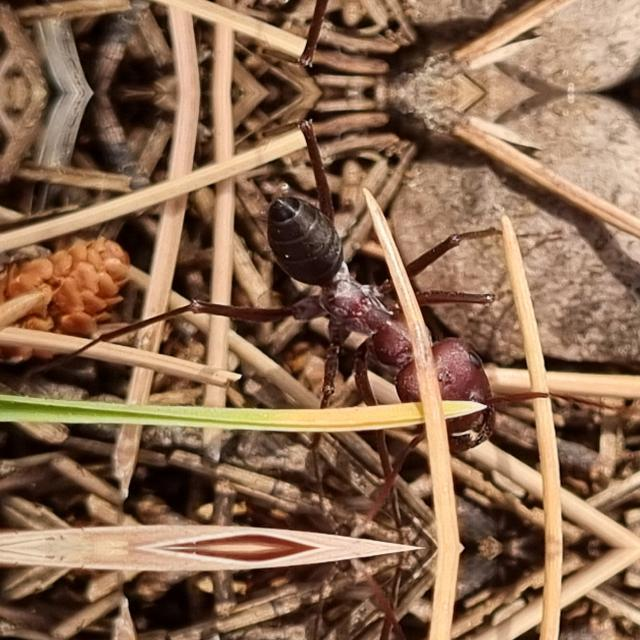Cataglyphis: (161, 120, 573, 443)
